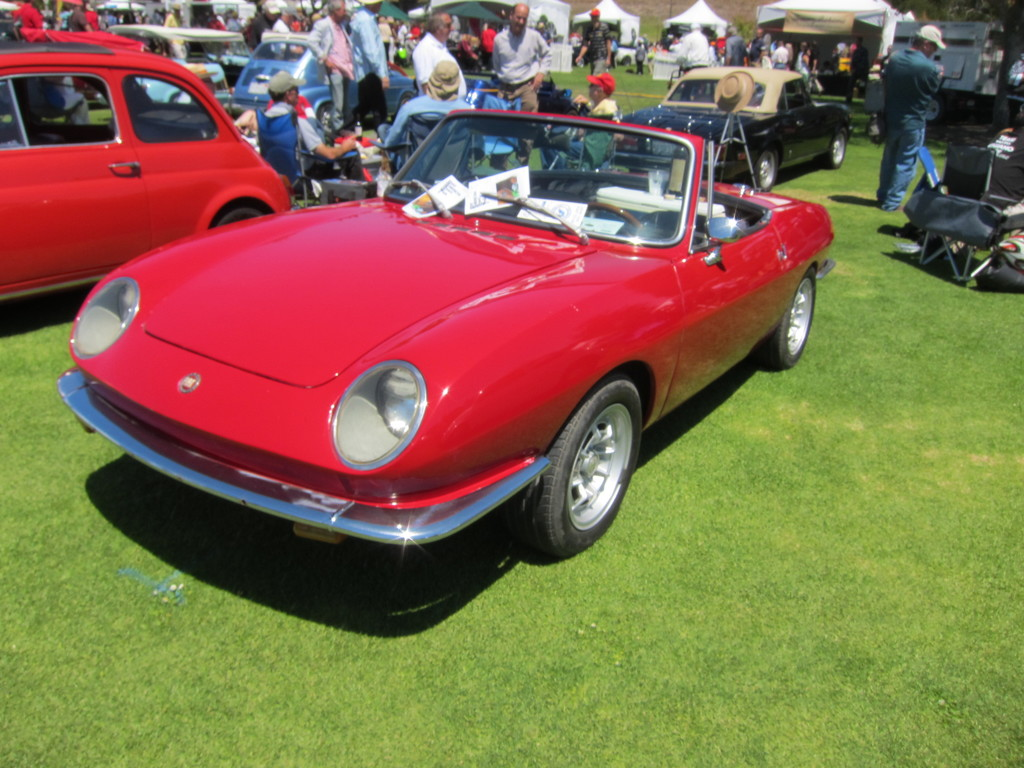Car: (67, 109, 787, 578), (0, 42, 302, 325), (614, 63, 853, 187), (228, 39, 408, 138), (114, 26, 244, 108)
